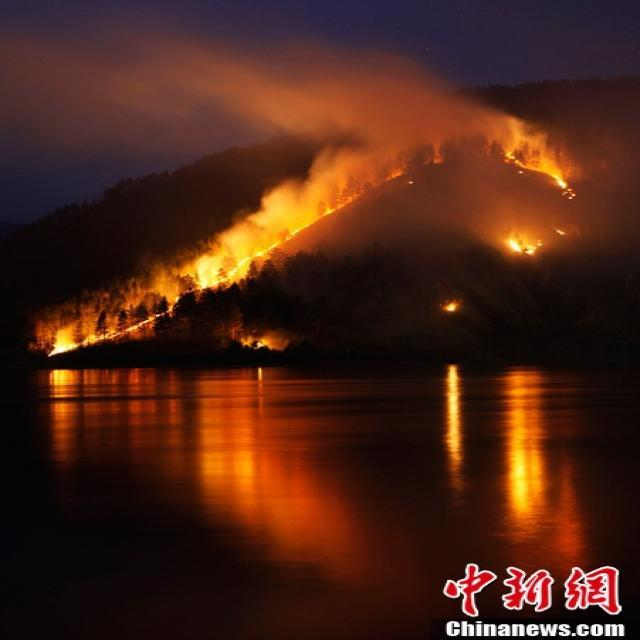Fire: (45, 198, 355, 358), (505, 148, 579, 201), (503, 233, 542, 254), (443, 301, 460, 313)
Smoke: (12, 17, 502, 128)
